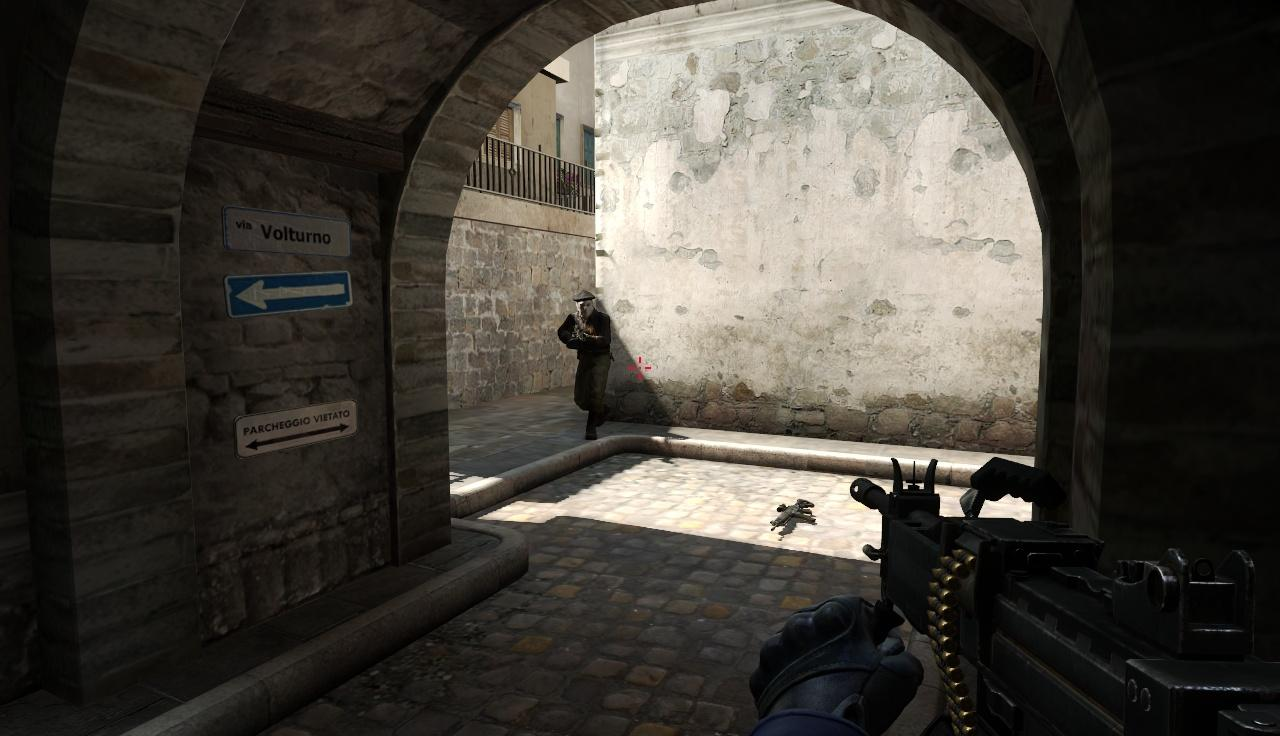rifle: (829, 432, 1280, 736)
tt: (571, 291, 611, 440)
tthead: (576, 290, 593, 316)
